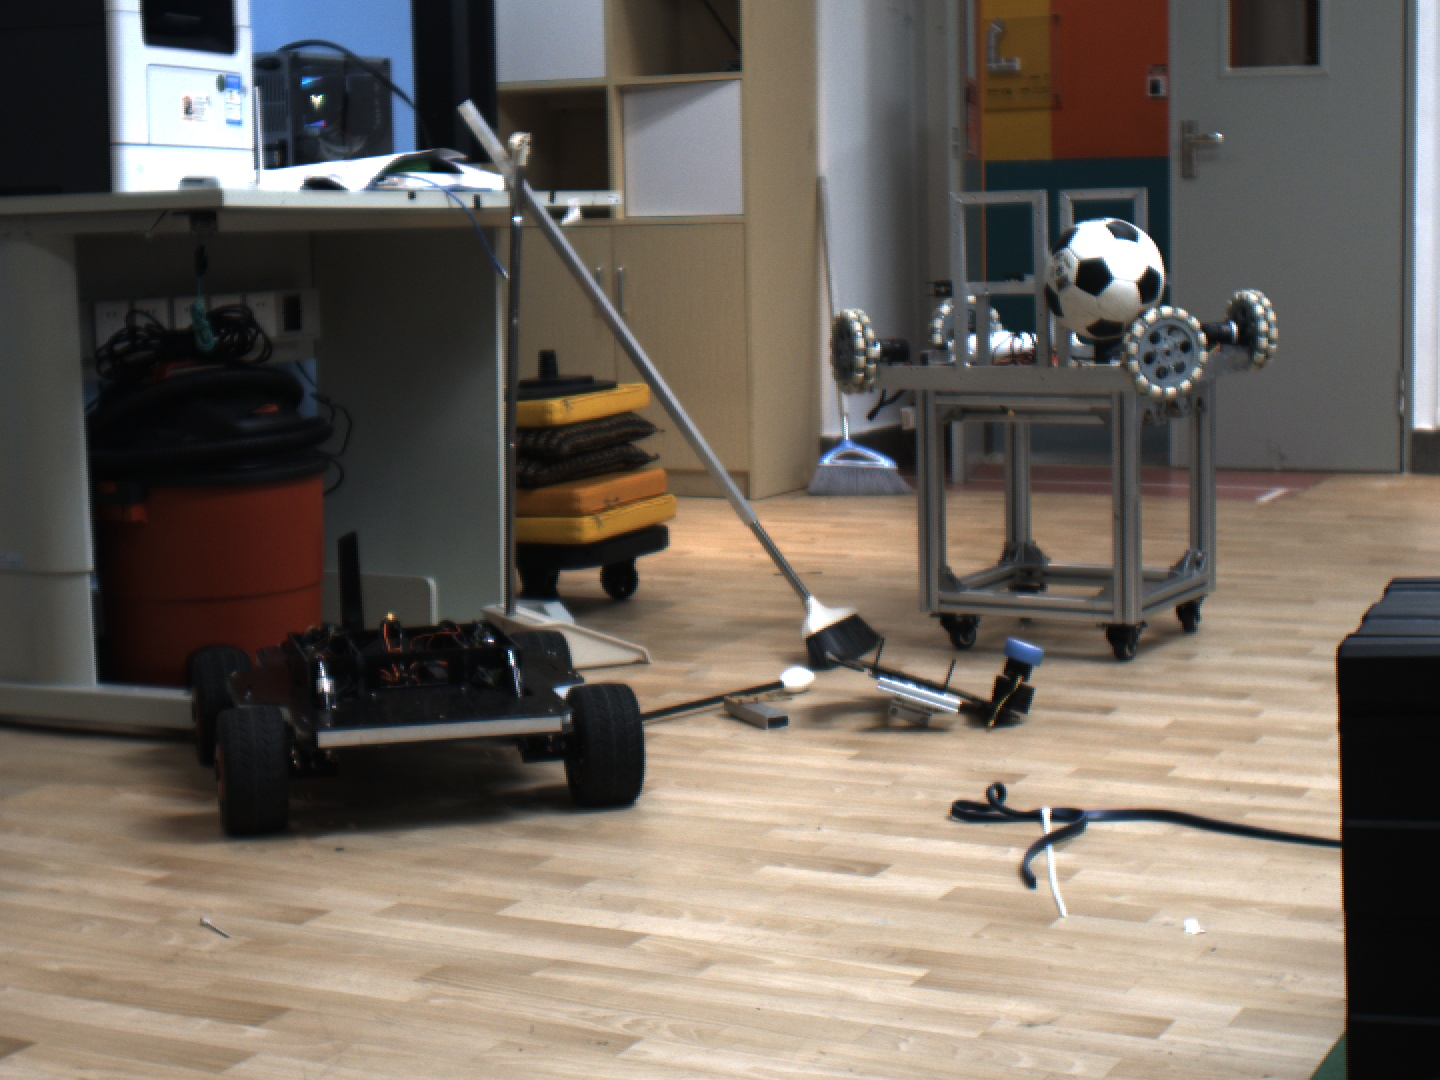ball: (1034, 212, 1181, 348)
